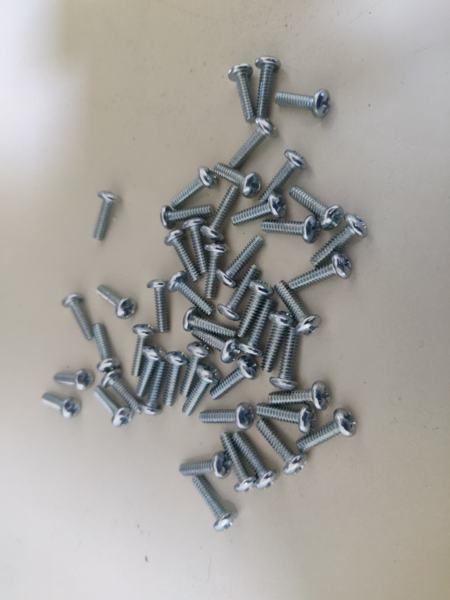shortscrew: (311, 213, 370, 269), (256, 418, 308, 476), (259, 149, 308, 204), (274, 280, 322, 336), (217, 264, 263, 322), (229, 117, 279, 170), (297, 408, 357, 452), (233, 431, 277, 490), (192, 476, 238, 532), (288, 252, 352, 292), (217, 235, 264, 289), (290, 186, 344, 231), (238, 297, 277, 359), (201, 186, 241, 243), (210, 357, 261, 401), (219, 433, 257, 492), (201, 186, 240, 243), (237, 280, 273, 339), (168, 271, 215, 316), (262, 311, 296, 373), (171, 166, 218, 210), (183, 364, 221, 418), (164, 230, 202, 282), (270, 327, 300, 391), (231, 192, 287, 226), (102, 370, 144, 415), (269, 381, 331, 411), (213, 162, 263, 199), (191, 328, 242, 364), (228, 64, 258, 123), (180, 342, 211, 398), (254, 56, 281, 119), (262, 215, 320, 244), (93, 386, 134, 427), (184, 306, 238, 337), (140, 360, 169, 417), (276, 89, 332, 118), (92, 191, 123, 242), (203, 243, 230, 301), (199, 403, 256, 430), (63, 295, 95, 341), (97, 285, 138, 320), (163, 352, 189, 407), (180, 452, 232, 479), (131, 324, 157, 378), (160, 205, 214, 230), (93, 324, 121, 372), (184, 218, 208, 274), (147, 279, 171, 333), (42, 393, 82, 419), (54, 369, 95, 391)
